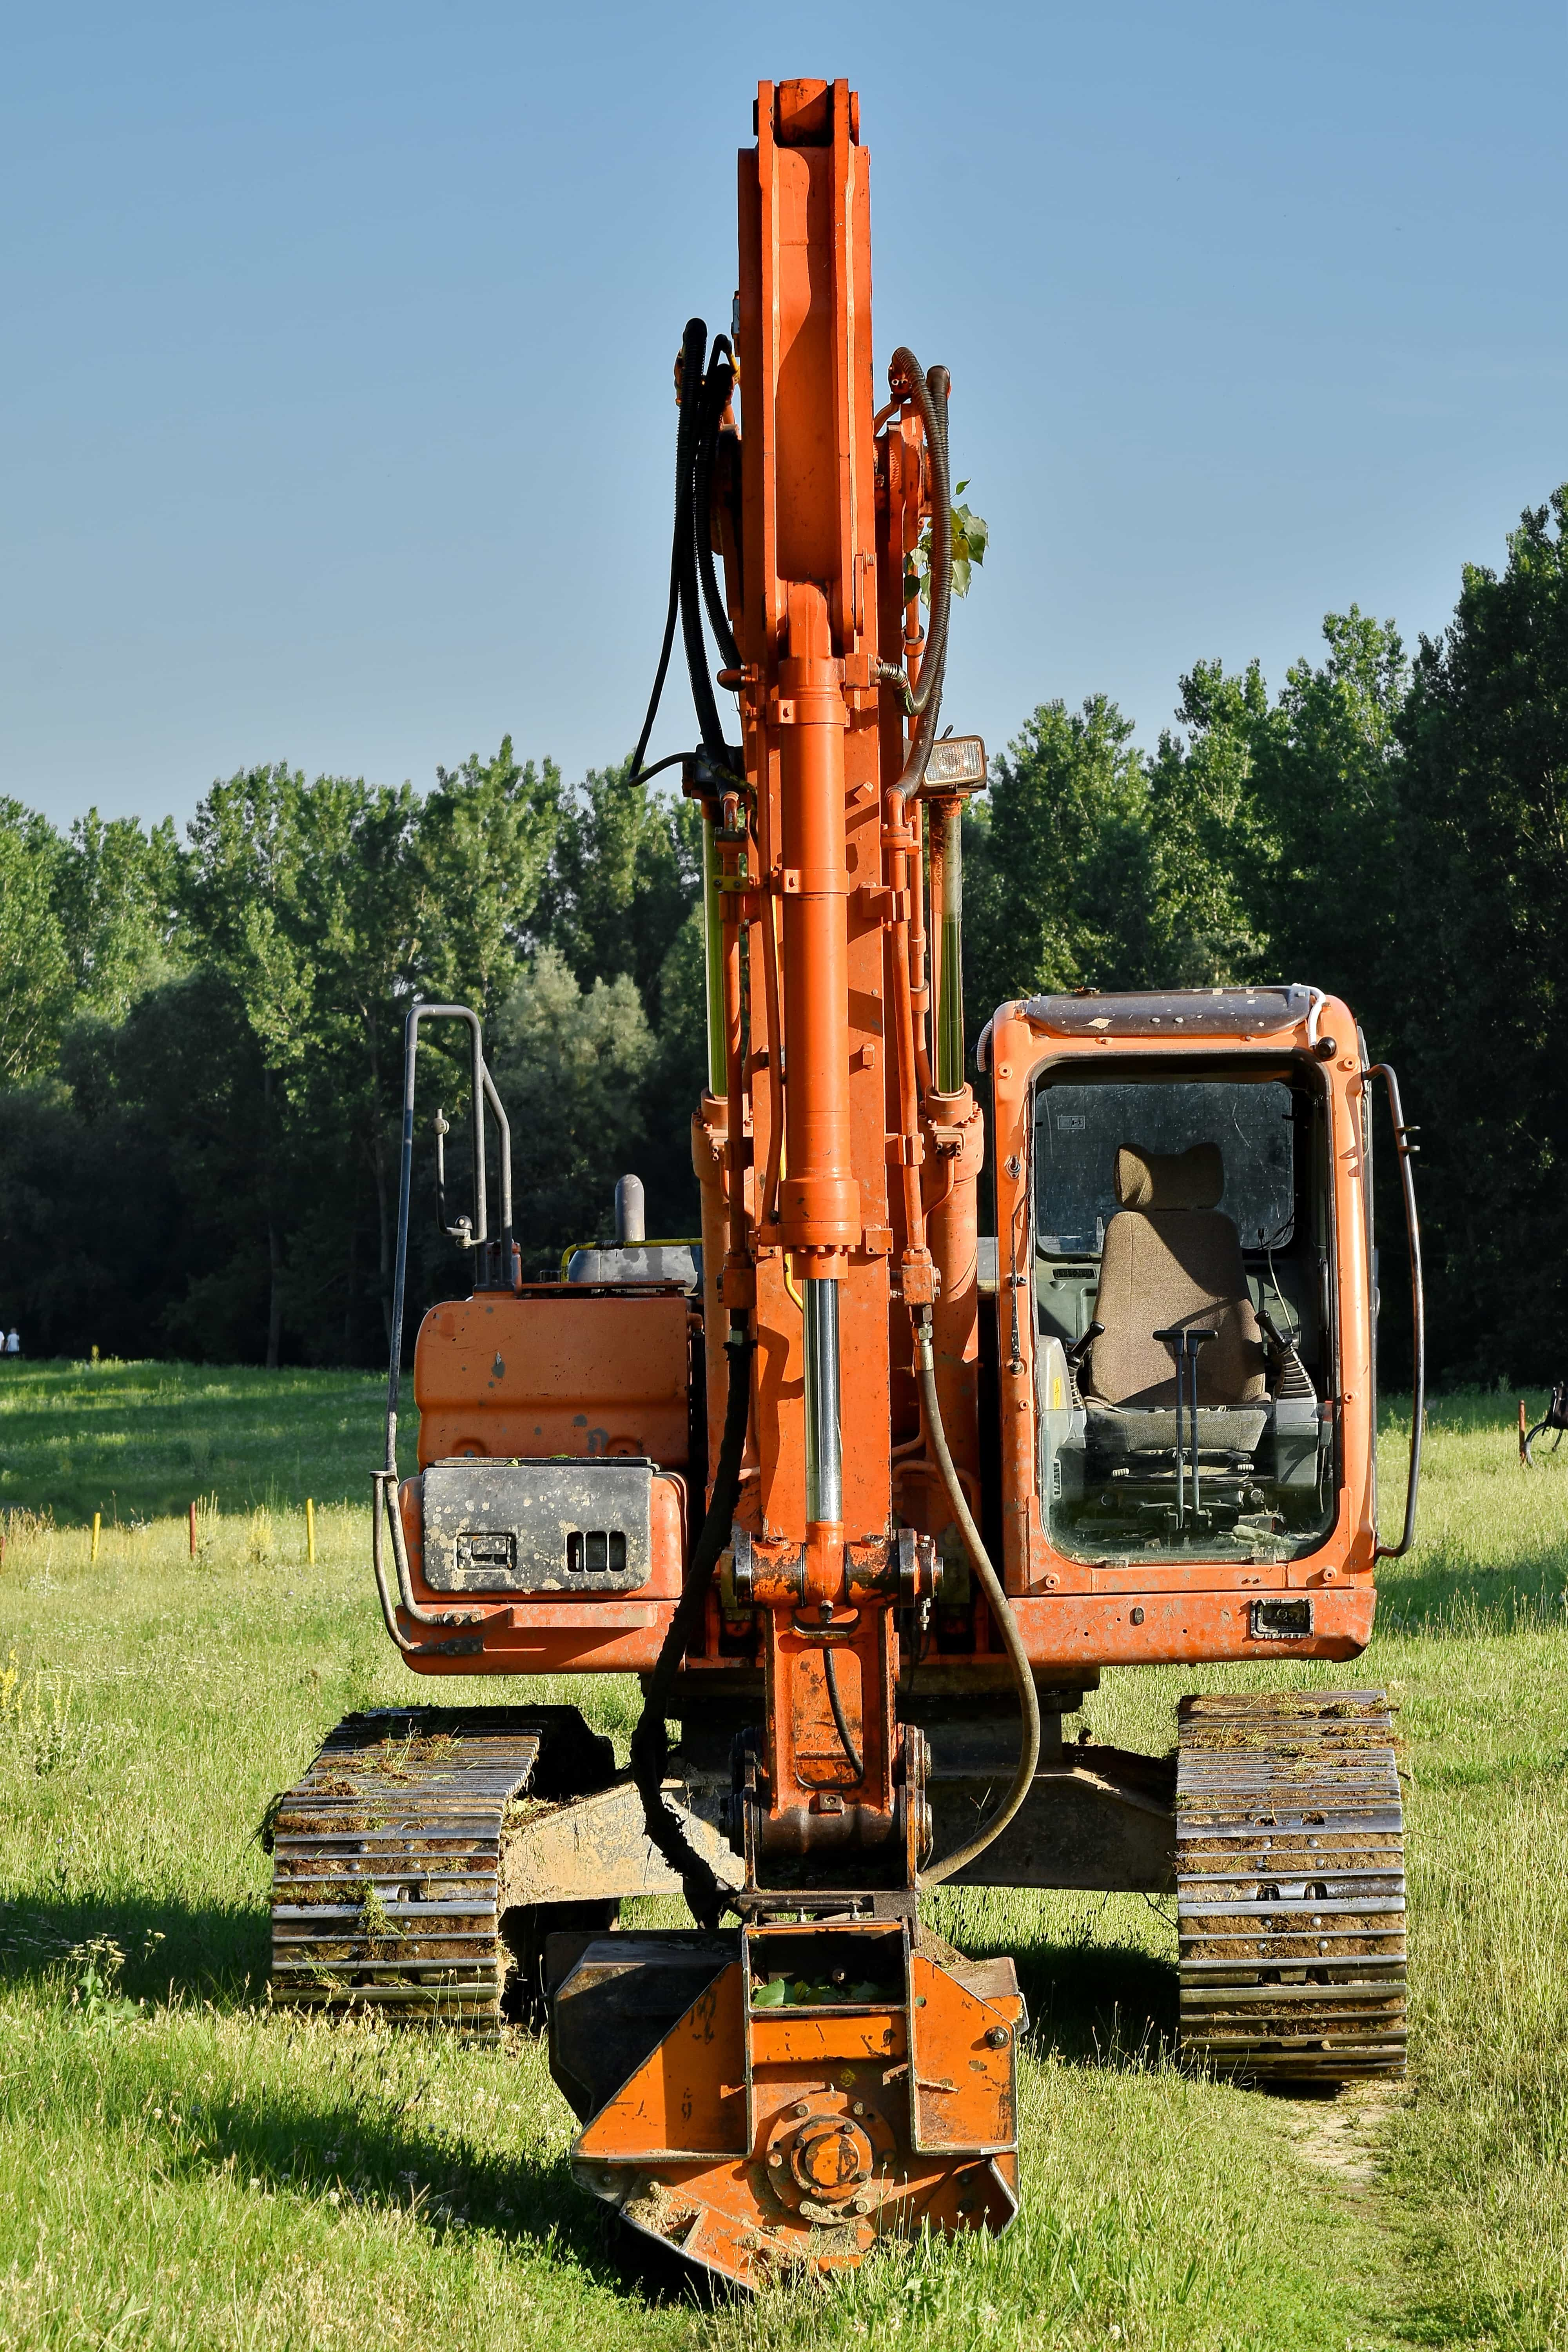excavator: (262, 54, 1419, 2299)
